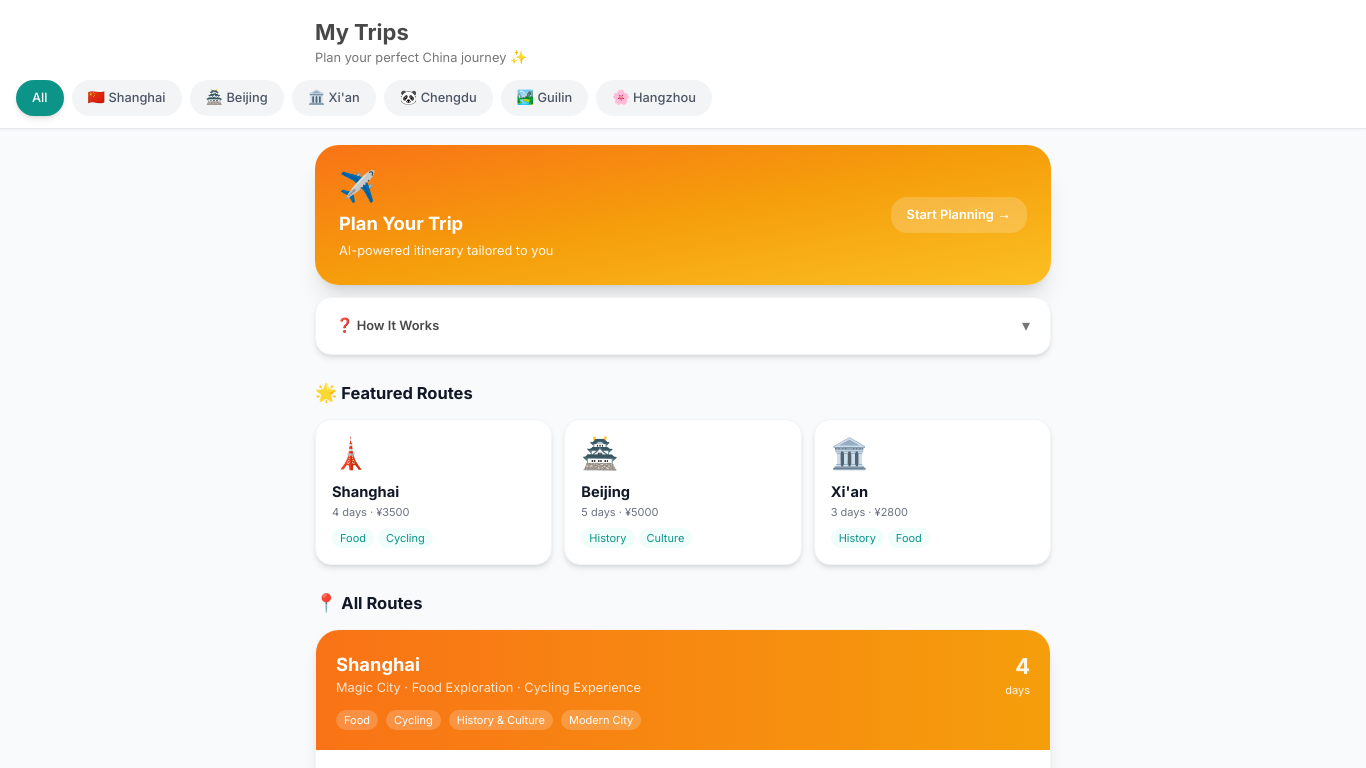
Test: TripsView › 应该支持城市筛选
Click the button "🇨🇳 Shanghai" at (126, 98), box [72,80,182,116]
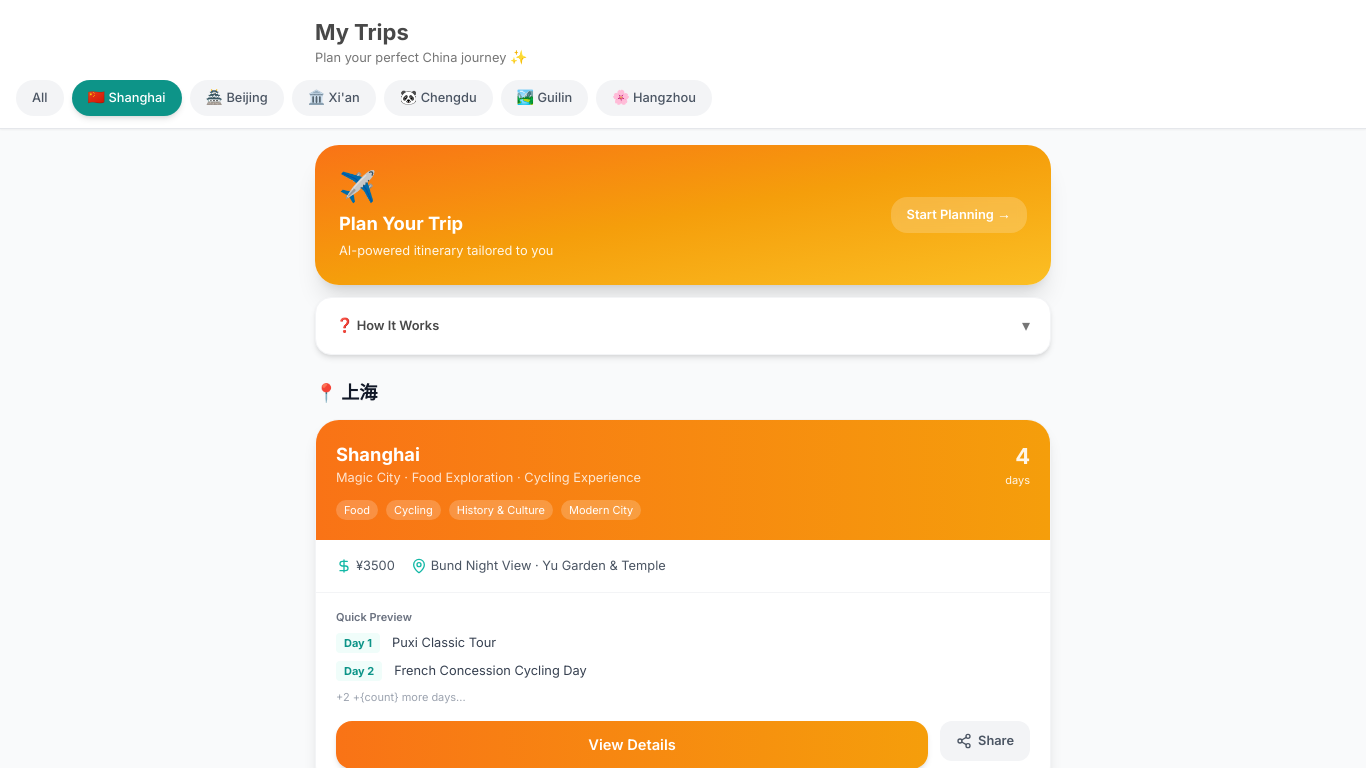
Result: the heading "📍 上海" is shown at [315,383,377,403]
